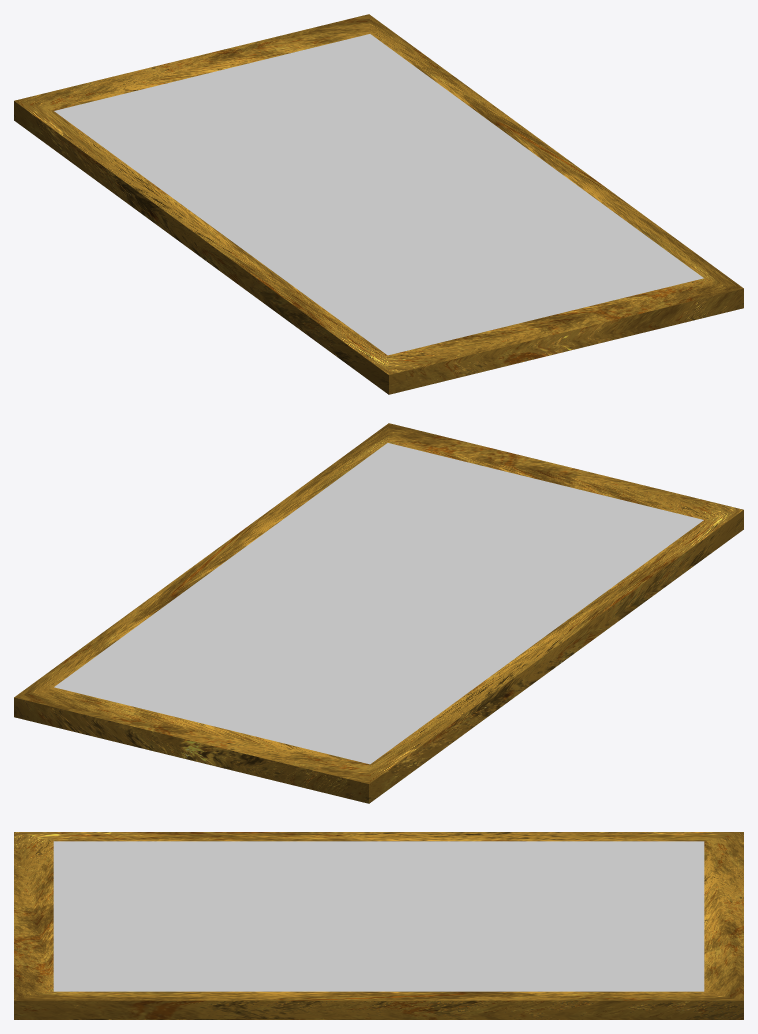
Rendered from paint.glb.
The picture shows the model from 3 angles, top to bottom: view 1: azimuth 30°, elevation 25°; view 2: azimuth 150°, elevation 25°; view 3: azimuth 270°, elevation 25°; orthographic projection. The views are drawn at different scales.
Visible parts, largest first — view 1: Cube; view 2: Cube; view 3: Cube.
Part boxes in pixels (bbox=[...]): Cube: bbox=[14, 14, 743, 394]; Cube: bbox=[14, 423, 743, 803]; Cube: bbox=[14, 832, 743, 1019].
Size of the model in its own units: 6.09 by 0.3228 by 11.13.
Materials: 2 (1 with a texture image).
